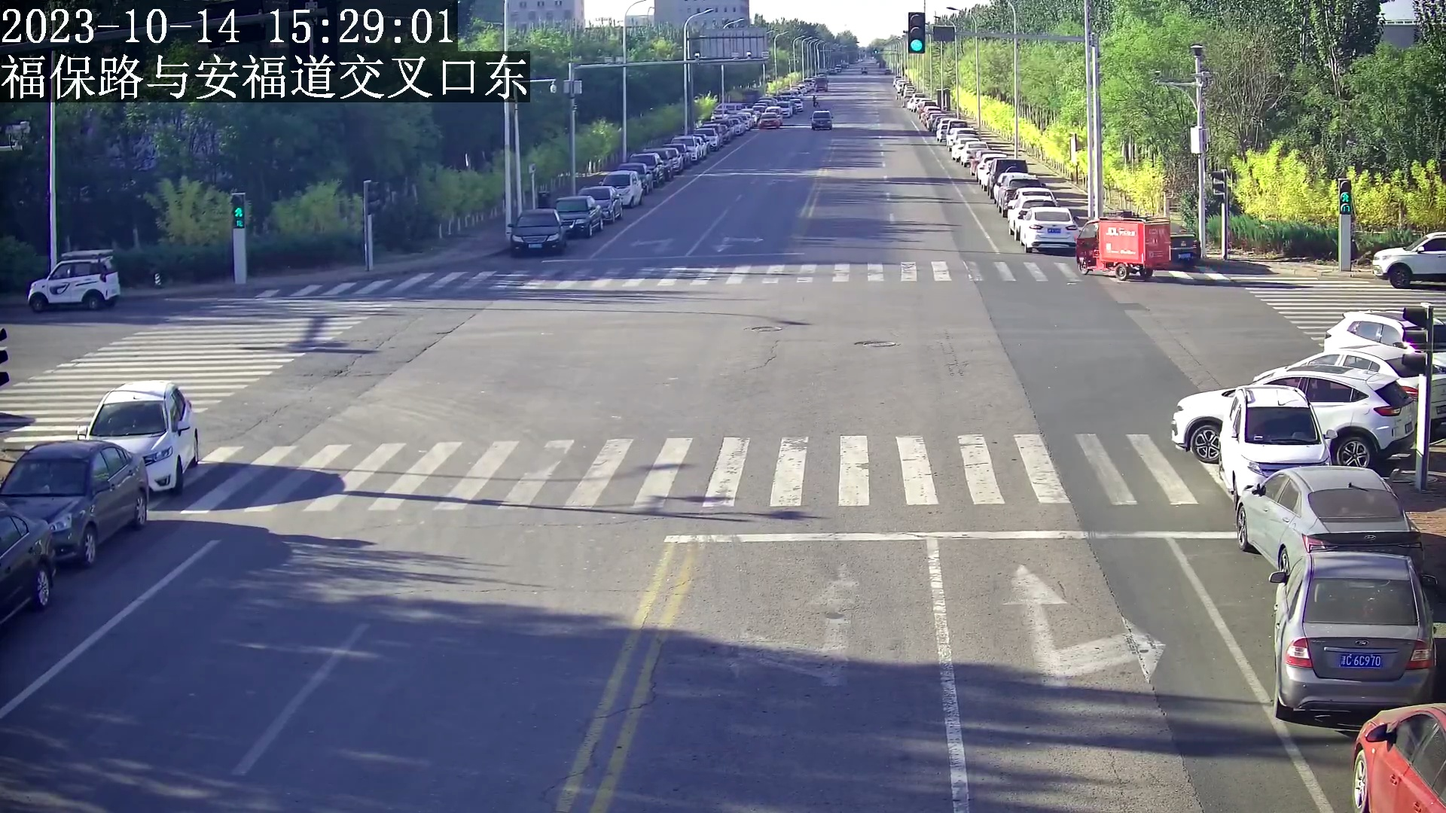vehicle: (1266, 550, 1432, 718), (1163, 368, 1406, 451), (3, 439, 151, 562), (1234, 467, 1409, 559), (82, 379, 194, 491), (1223, 384, 1329, 492), (1344, 701, 1430, 810), (1075, 209, 1172, 285), (24, 249, 117, 309), (1368, 220, 1446, 285), (1018, 204, 1077, 254), (505, 204, 559, 257), (552, 194, 602, 237)
